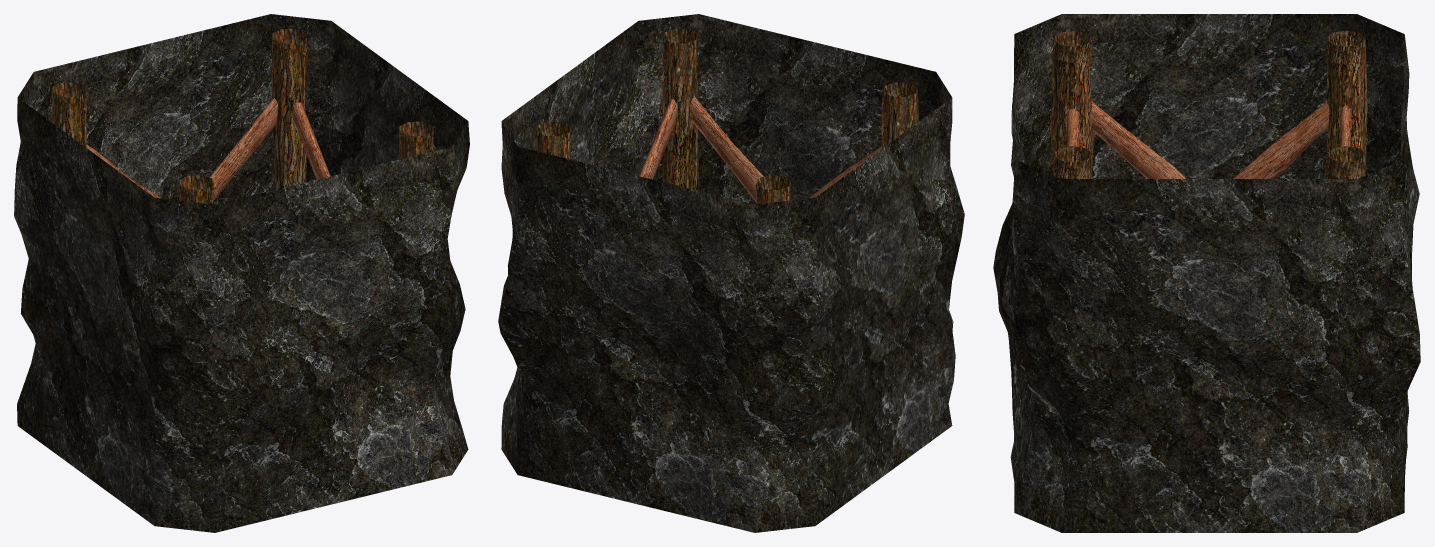
File: Cave_014.fbx
3 renders of one model, left to right at view 1: azimuth 30°, elevation 25°; view 2: azimuth 150°, elevation 25°; view 3: azimuth 270°, elevation 25°, orthographic. The views are drawn at different scales.
Parts seen in each view (by area): view 1: Cave.014; view 2: Cave.014; view 3: Cave.014.
Boxes of the visible parts, x1,y1,x2,y2 form: Cave.014: (14, 14, 469, 532); Cave.014: (498, 14, 964, 532); Cave.014: (993, 14, 1420, 532).
Bounding box in the file's own units: 313 × 300 × 328.
